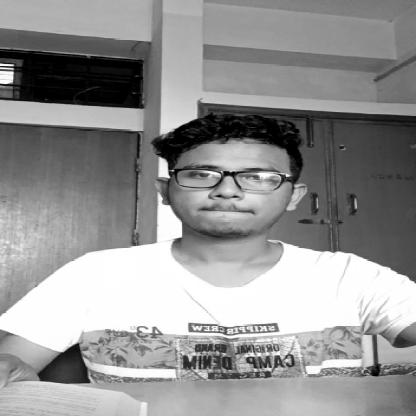Normal: (120, 122, 331, 233)
